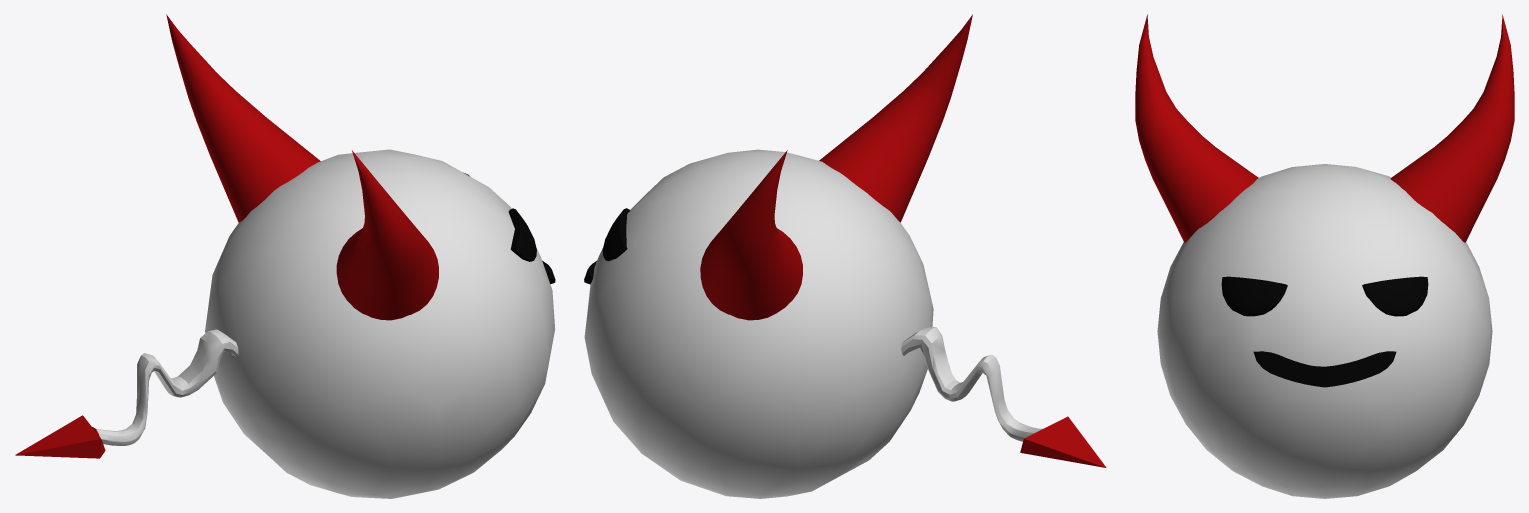
Rendered from Devil.glb.
3 views of the same model, side by side, from view 1: azimuth 30°, elevation 25°; view 2: azimuth 150°, elevation 25°; view 3: azimuth 270°, elevation 25° (orthographic). The views are drawn at different scales.
Visible parts, largest first — view 1: Cone.001; view 2: Cone.001; view 3: Cone.001.
Boxes of the visible parts, bbox=[...] form: Cone.001: bbox=[15, 14, 555, 498]; Cone.001: bbox=[584, 14, 1106, 498]; Cone.001: bbox=[1135, 14, 1514, 498].
Bounding box in the file's own units: 2.54 × 2.04 × 1.7.
